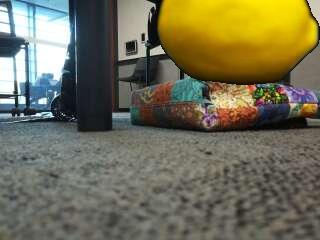lemon: (160, 1, 319, 85)
